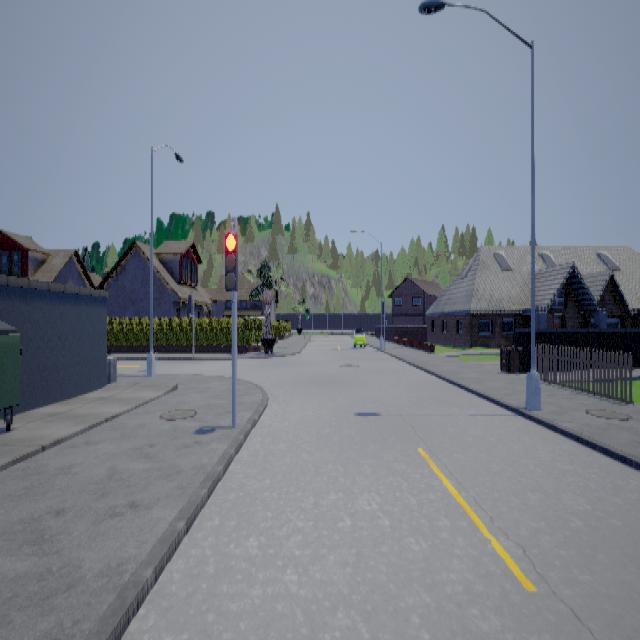red_light: (226, 220, 239, 302)
vehicle: (353, 327, 368, 345)
